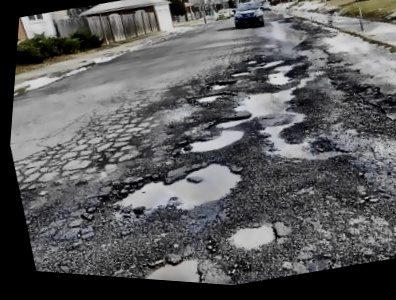pothole: (103, 146, 252, 231), (133, 245, 214, 284), (174, 120, 250, 160), (225, 215, 282, 254), (189, 86, 229, 108), (214, 111, 252, 130), (205, 75, 233, 93), (229, 66, 253, 79)
